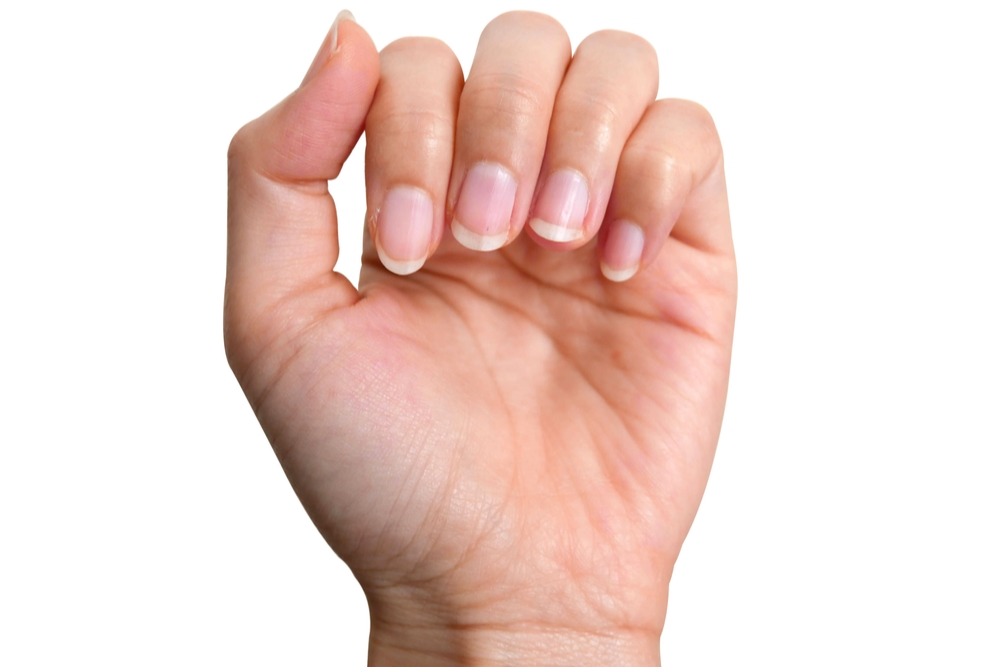nails: (443, 156, 522, 254), (373, 175, 436, 283), (524, 161, 594, 245), (299, 5, 355, 89), (596, 213, 646, 287)
